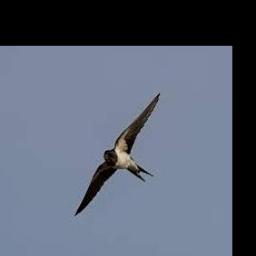Swallow: (74, 92, 162, 218)
